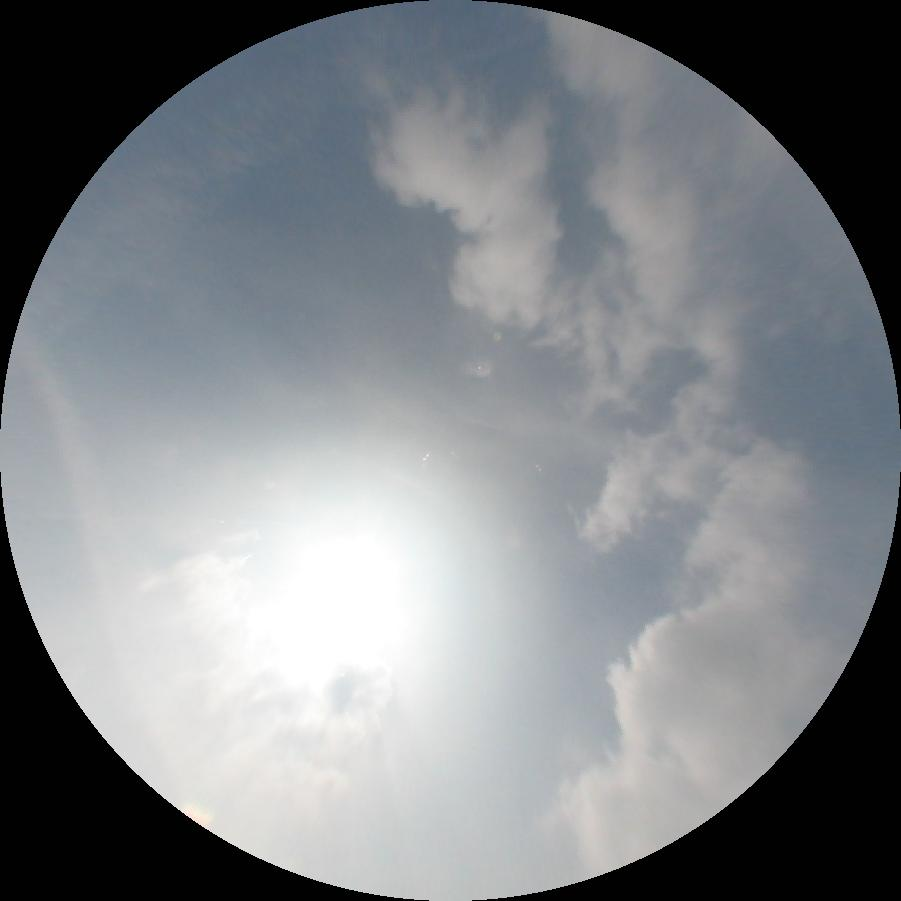sun: (290, 534, 413, 642)
